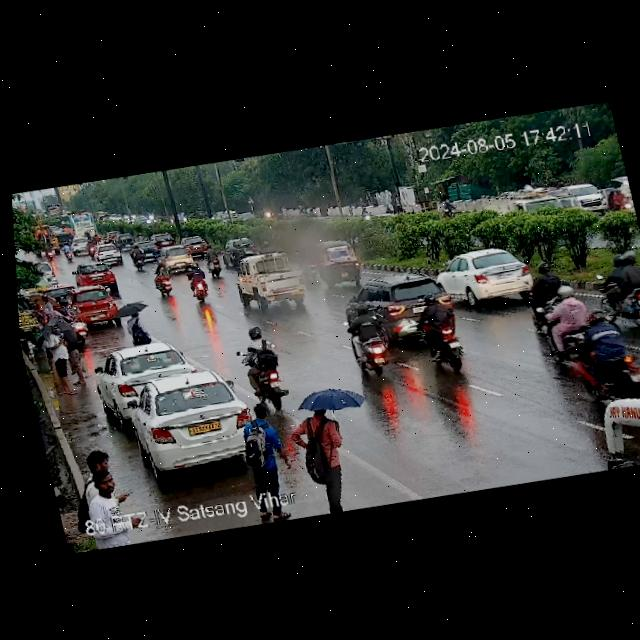bus: (576, 379, 640, 473), (54, 208, 103, 241)
car: (104, 361, 276, 485), (336, 267, 463, 344), (92, 337, 198, 409), (435, 240, 541, 308), (307, 233, 363, 293), (67, 285, 122, 328), (69, 259, 120, 292), (565, 177, 610, 214), (149, 242, 199, 275), (175, 232, 219, 259), (551, 183, 582, 214), (223, 234, 260, 258), (128, 241, 164, 265), (358, 200, 397, 222), (92, 243, 125, 264), (32, 261, 57, 288), (64, 235, 93, 257), (149, 231, 180, 249), (114, 231, 136, 250), (104, 228, 123, 242)
motorcycle: (234, 396, 300, 524), (531, 279, 616, 359), (230, 319, 291, 414), (411, 287, 466, 368), (594, 236, 640, 329), (345, 305, 396, 374), (182, 266, 216, 305), (149, 267, 180, 300), (203, 247, 229, 280), (440, 195, 460, 219), (60, 242, 76, 261), (260, 207, 275, 220)
person: (283, 388, 365, 517), (73, 466, 133, 528), (41, 320, 79, 395), (120, 298, 154, 347), (81, 445, 115, 471)
truck: (230, 245, 314, 314), (478, 179, 554, 219)
